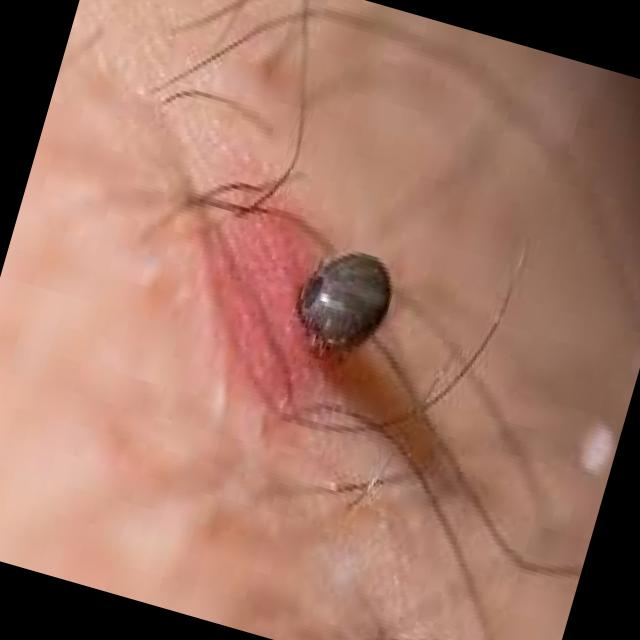kene: (159, 148, 493, 496)
